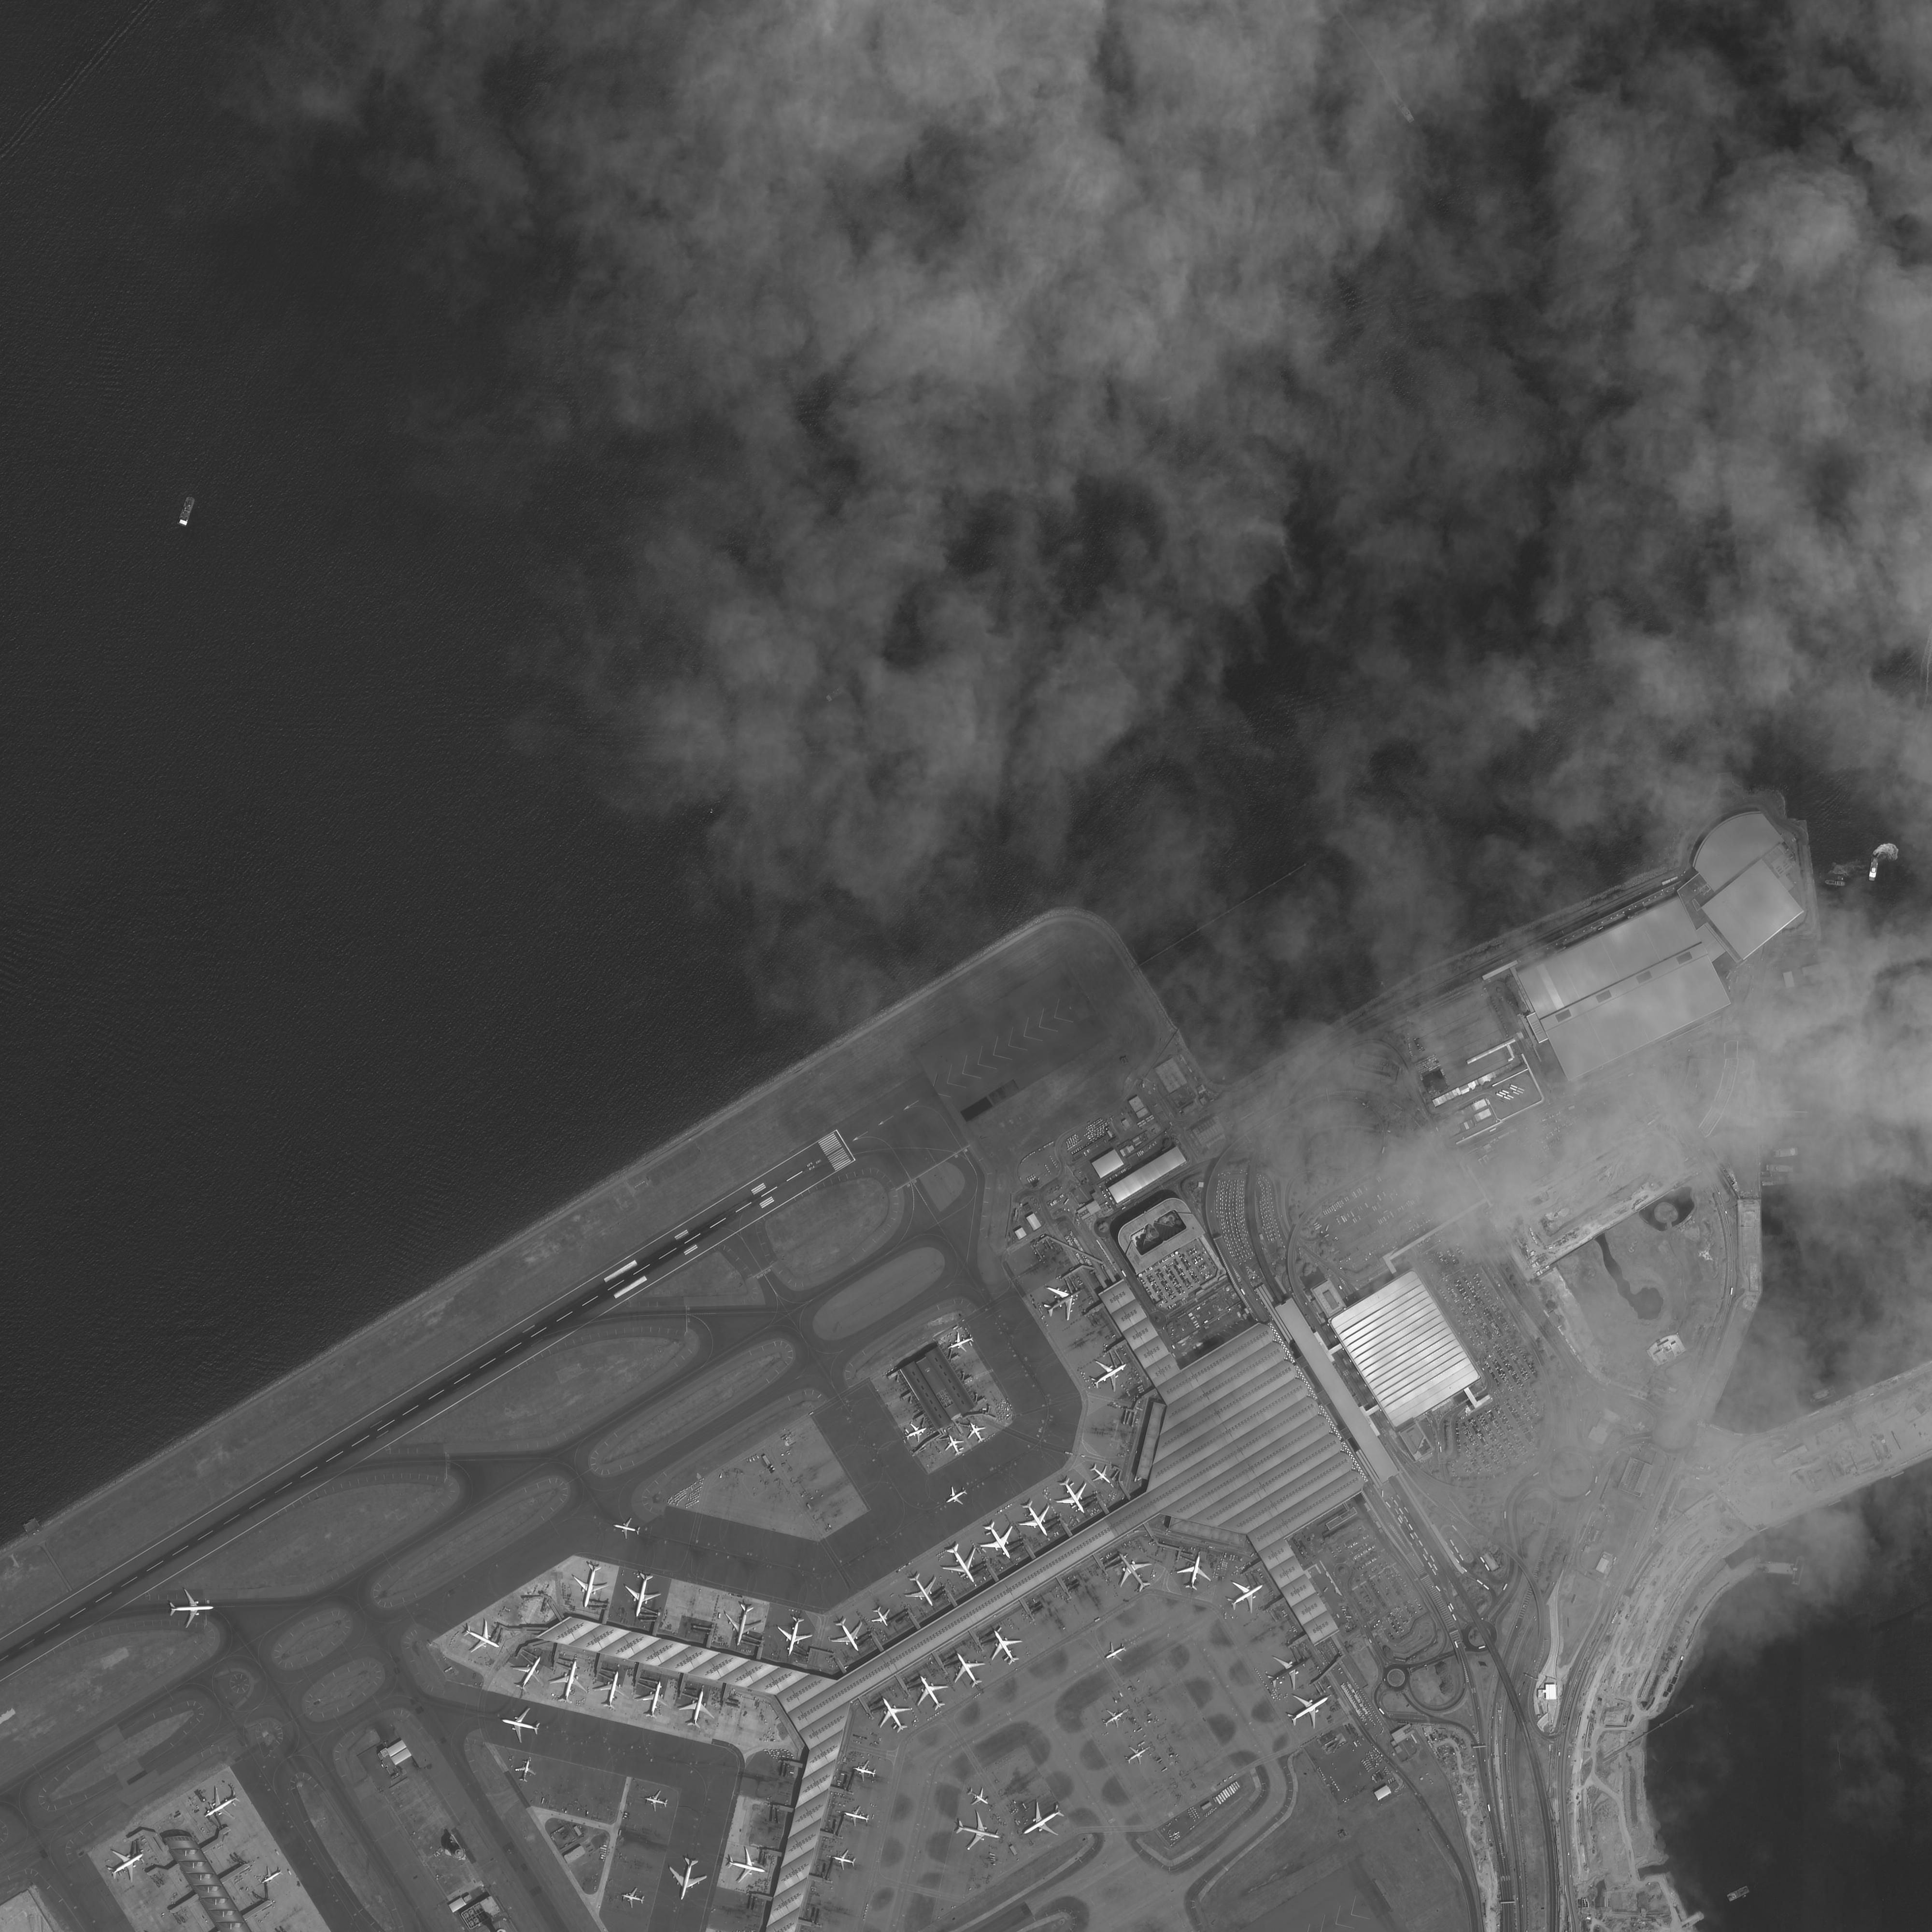harbor: (1755, 1562, 1794, 1576), (1686, 1909, 1707, 1927)
plane: (1104, 1539, 1162, 1603), (1279, 1681, 1338, 1739), (934, 1536, 991, 1594), (99, 1836, 156, 1895), (1037, 1272, 1093, 1329), (1016, 1796, 1072, 1851), (1260, 1644, 1315, 1700), (662, 1851, 713, 1909), (971, 1514, 1024, 1569), (1219, 1569, 1272, 1624), (1047, 1468, 1099, 1525), (948, 1806, 1007, 1856), (906, 1668, 955, 1725), (1010, 1493, 1062, 1546), (941, 1645, 993, 1698), (455, 1612, 506, 1663), (504, 1647, 556, 1698), (545, 1656, 594, 1709), (196, 1780, 249, 1829), (869, 1688, 918, 1741), (982, 1622, 1031, 1674), (1085, 1350, 1136, 1399), (617, 1568, 665, 1621), (895, 1566, 945, 1615), (1171, 1550, 1219, 1599), (720, 1598, 766, 1649), (566, 1559, 612, 1610), (499, 1702, 547, 1750), (674, 1688, 720, 1736), (826, 1612, 870, 1661), (771, 1610, 816, 1658), (720, 1844, 768, 1888), (591, 1667, 633, 1714), (166, 1587, 214, 1629), (633, 1677, 674, 1725), (1122, 1739, 1157, 1771), (865, 1599, 897, 1633), (1086, 1456, 1118, 1490), (1097, 1702, 1131, 1734), (962, 1780, 994, 1812), (945, 1327, 977, 1357), (941, 1481, 973, 1511), (257, 1861, 287, 1891), (1100, 1637, 1131, 1667), (939, 1430, 968, 1461), (511, 1757, 540, 1787), (830, 1847, 860, 1875), (962, 1419, 991, 1447), (642, 1787, 671, 1815), (619, 1884, 648, 1913), (612, 1514, 642, 1541), (901, 1421, 931, 1447), (851, 1757, 878, 1783), (842, 1805, 870, 1829)
ship: (1389, 90, 1417, 126), (175, 495, 198, 527), (1725, 1882, 1752, 1905), (1806, 1385, 1836, 1405), (1790, 1555, 1806, 1587), (1769, 1146, 1801, 1159), (1867, 855, 1881, 881), (1819, 870, 1845, 881), (1766, 1164, 1794, 1173), (1824, 879, 1845, 888)
